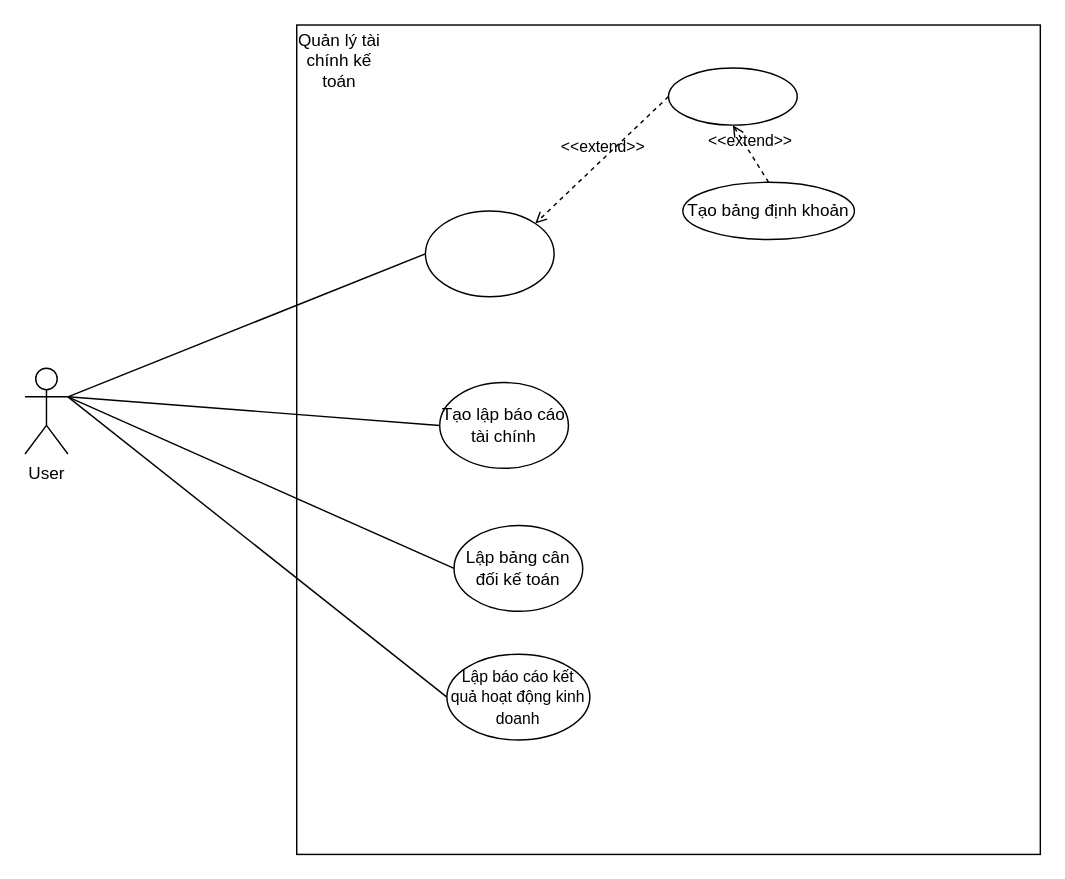
Some shapes in this 1065 by 879 pixel diagram are drawn without their labels. Each missing label, with the box of its shape:
CRUD nghiệp vụ kế toán: (424, 209, 554, 297)
Tạo nghiệp vụ: (667, 66, 797, 125)
